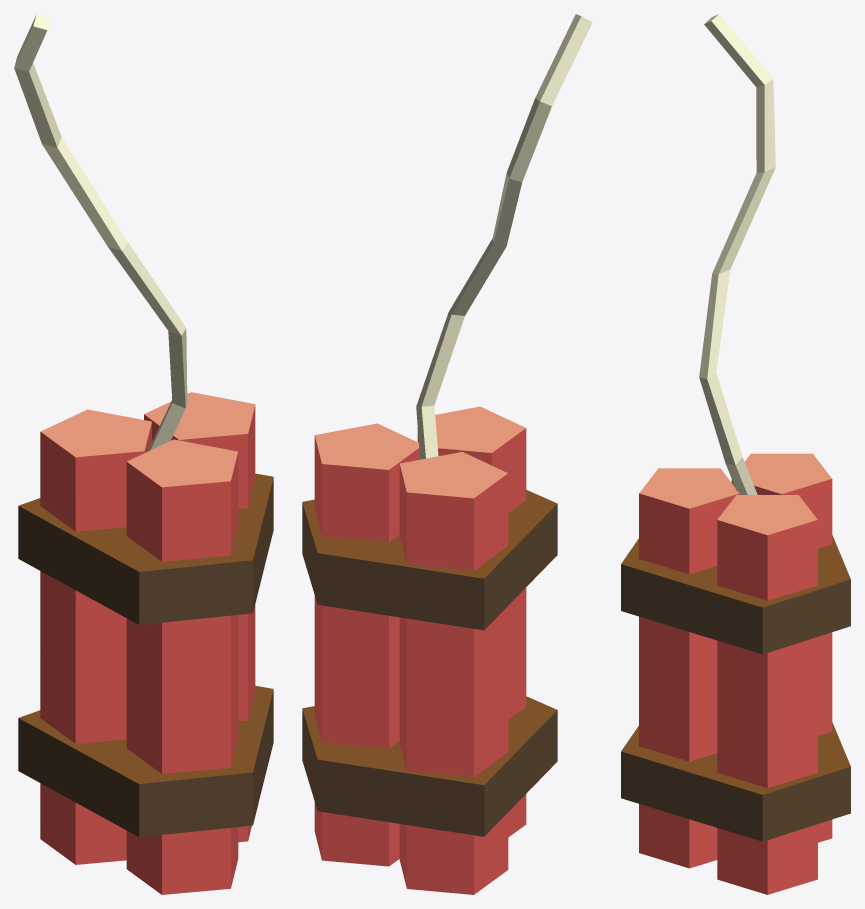
File: Dynamite.fbx
The picture shows the model from 3 angles, left to right: view 1: azimuth 30°, elevation 25°; view 2: azimuth 150°, elevation 25°; view 3: azimuth 270°, elevation 25°; orthographic projection. The views are drawn at different scales.
Visible parts, largest first — view 1: pCylinder46; view 2: pCylinder46; view 3: pCylinder46.
Boxes of the visible parts, box(x1,y1,x2,y2) form: pCylinder46: box(14, 14, 273, 894); pCylinder46: box(302, 14, 592, 894); pCylinder46: box(621, 14, 850, 894).
Bounding box in the file's own units: 20.76 × 64.63 × 17.38.
Materials: 1 (1 with a texture image).
